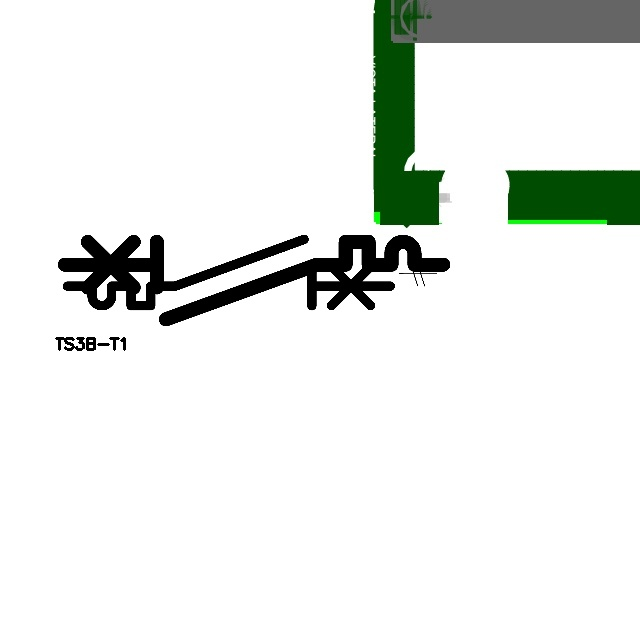interruptor_termomagnetico: (55, 232, 453, 329), (59, 231, 398, 314)
